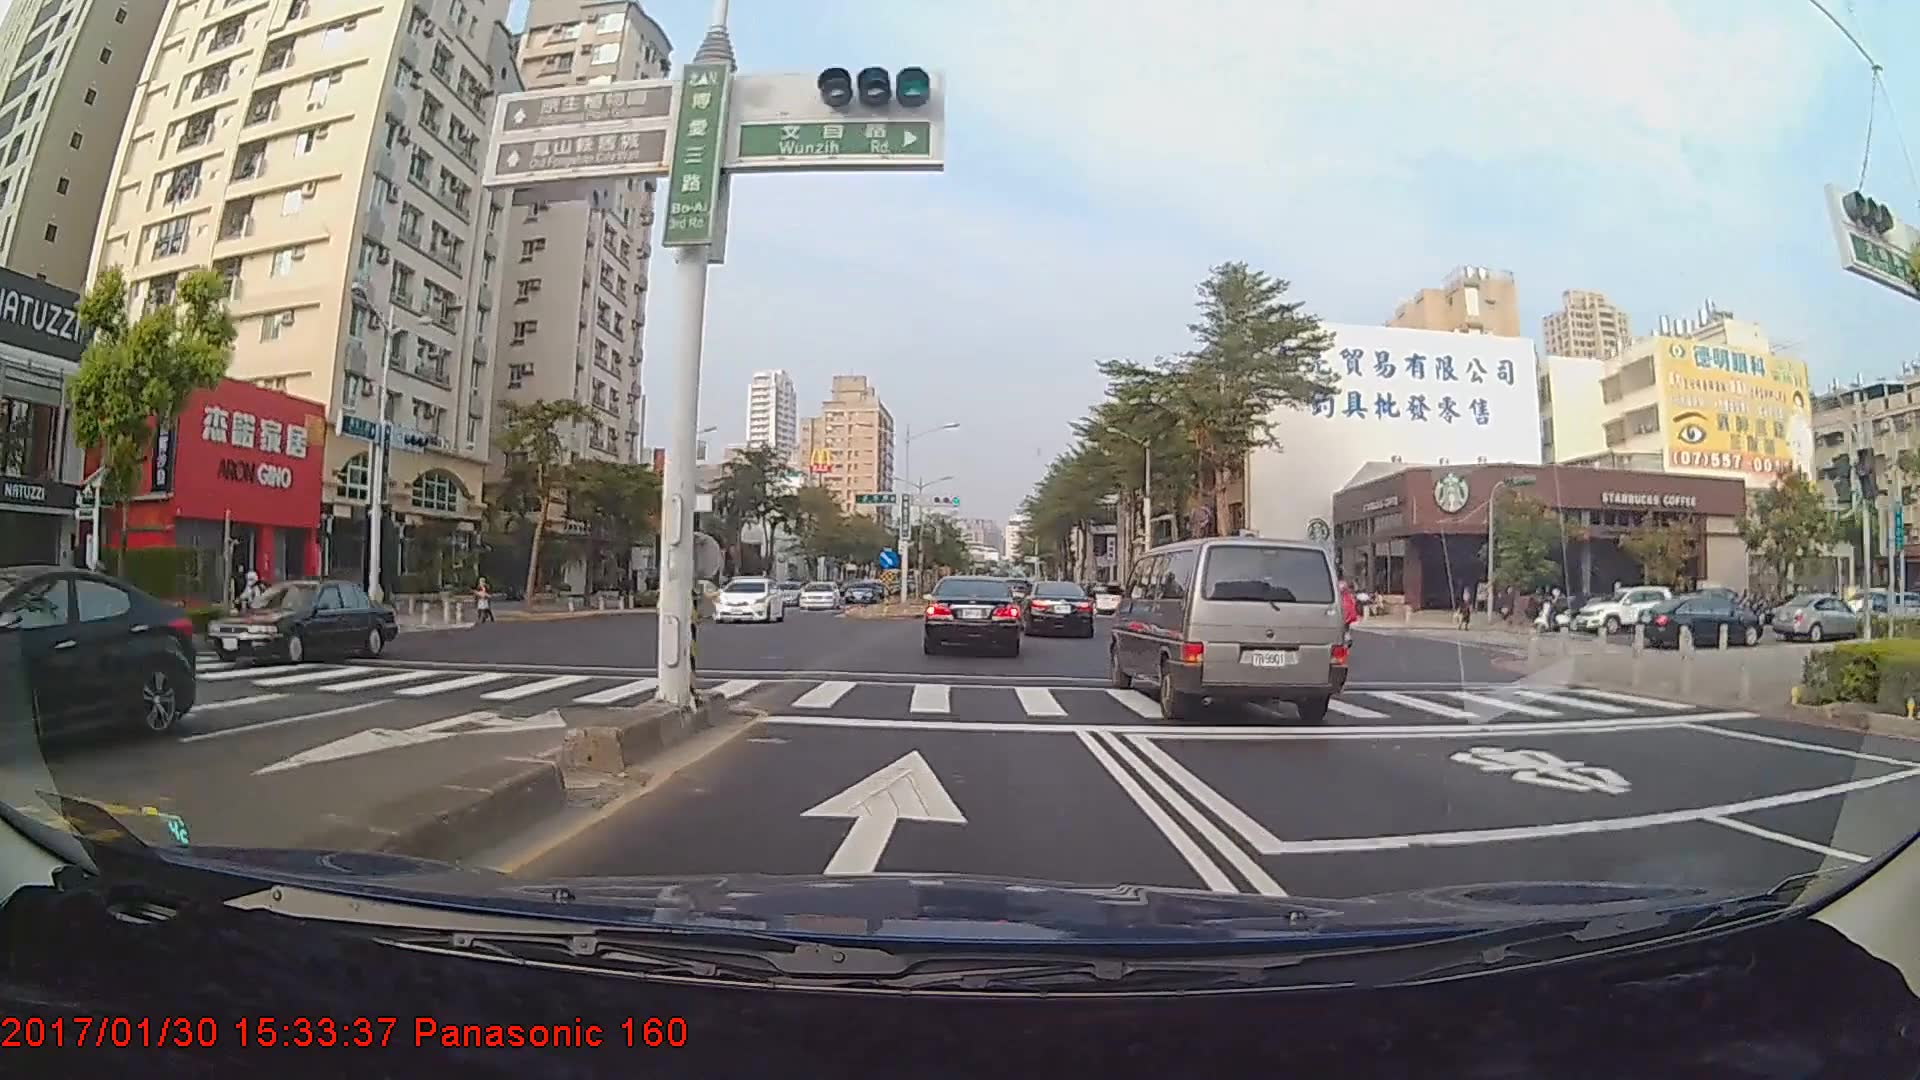rider: (62, 561, 119, 649), (1537, 584, 1581, 636)
vehicle: (1111, 536, 1348, 722), (0, 561, 198, 773), (205, 577, 390, 666), (923, 574, 1024, 657), (1648, 582, 1776, 647), (1768, 595, 1867, 643), (1577, 586, 1675, 634), (1018, 579, 1096, 639), (712, 574, 782, 622), (795, 580, 840, 611)
